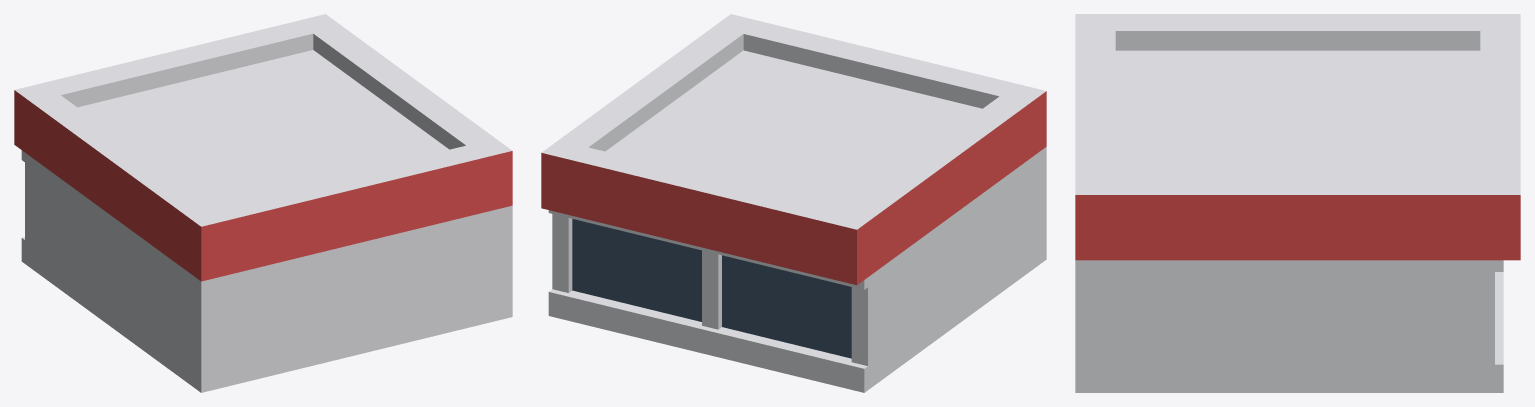
The model's file is pitsOffice.fbx.
3 views of the same model, side by side, from view 1: azimuth 30°, elevation 25°; view 2: azimuth 150°, elevation 25°; view 3: azimuth 270°, elevation 25° (orthographic). The views are drawn at different scales.
Parts seen in each view (by area): view 1: pitsOffice; view 2: pitsOffice; view 3: pitsOffice.
Boxes of the visible parts, x1,y1,x2,y2 form: pitsOffice: (14,14,512,392); pitsOffice: (541,14,1046,392); pitsOffice: (1075,14,1520,392).
Size of the model in its own units: 10 by 5.1 by 10.4.
